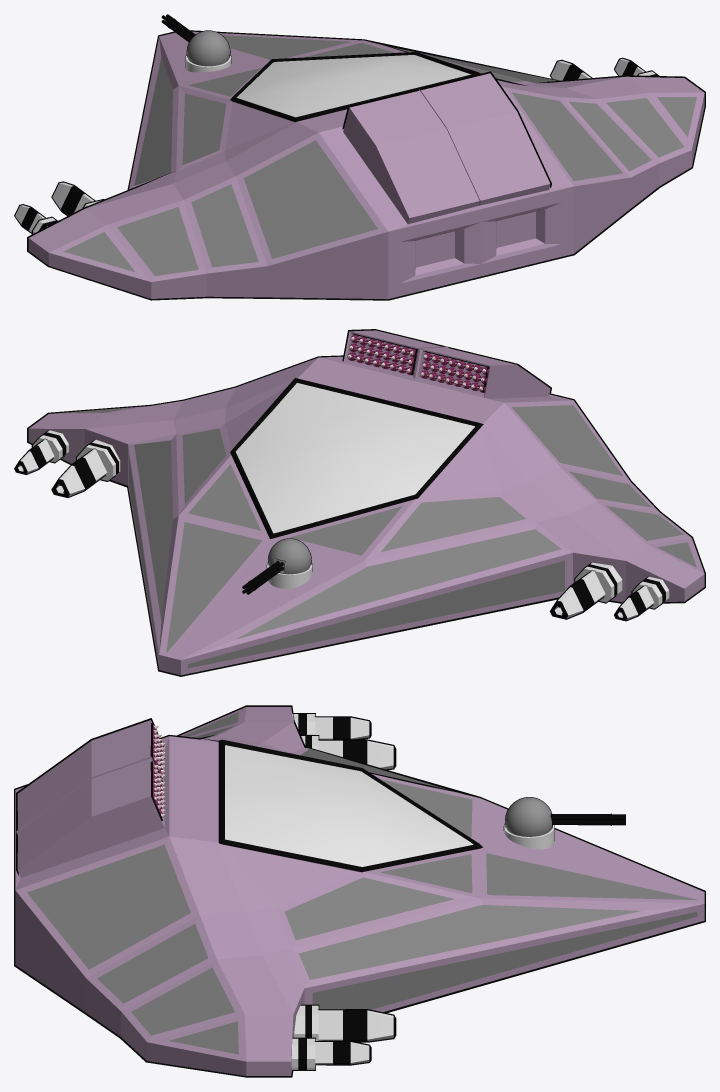
Rendered from Combat Fighter.fbx.
3 renders of one model, top to bottom at view 1: azimuth 30°, elevation 25°; view 2: azimuth 150°, elevation 25°; view 3: azimuth 270°, elevation 25°, orthographic. The views are drawn at different scales.
Parts seen in each view (by area): view 1: MainBody, Glass, MainBody Outline, CockpitCage, Gimball Core, L. Laser, Cylinder.013, L.L Laser; view 2: MainBody, Glass, MainBody Outline, CockpitCage, Rockets.004, Cylinder.013, L. Laser, Gimball Core, L.Laser Base, L.L Laser, R.R Laser, R.Laser Base (+3 smaller); view 3: MainBody, Glass, MainBody Outline, CockpitCage, Cylinder.013, L. Laser, Gimball Core, R.R Laser, L.L Laser, Rockets.004, Turret, R.R Laser Base (+2 smaller).
Part boxes in pixels (x1,y1,x2,y2): MainBody: (28,31,704,299); Glass: (236,55,470,117); MainBody Outline: (27,30,705,300); CockpitCage: (230,52,480,122); Gimball Core: (186,30,230,66); L. Laser: (51,181,95,215); Cylinder.013: (549,59,592,80); L.L Laser: (14,204,47,233); MainBody: (28,330,704,675); Glass: (235,383,474,533); MainBody Outline: (27,329,705,676); CockpitCage: (230,378,483,538); Rockets.004: (347,335,488,392); Cylinder.013: (51,448,106,497); L. Laser: (549,570,605,619); Gimball Core: (268,538,311,574); L.Laser Base: (574,562,622,603); L.L Laser: (614,585,654,621); R.R Laser: (14,438,54,474); R.Laser Base: (76,439,120,481); MainBody: (15,707,704,1075); Glass: (225,745,473,866); MainBody Outline: (14,705,705,1077); CockpitCage: (218,739,482,872); Cylinder.013: (318,1009,396,1042); L. Laser: (318,739,396,770); Gimball Core: (505,797,552,836); R.R Laser: (314,1040,371,1065); L.L Laser: (314,716,371,739); Rockets.004: (153,725,165,818); Turret: (551,813,625,825); R.R Laser Base: (291,1037,315,1070).
Bounding box in the file's own units: 12.93 × 10.62 × 2.7.
